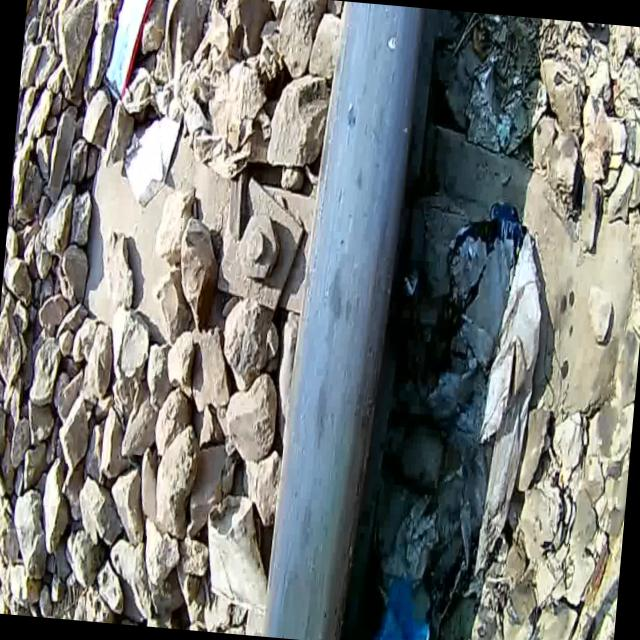Squats: (240, 0, 445, 640)
